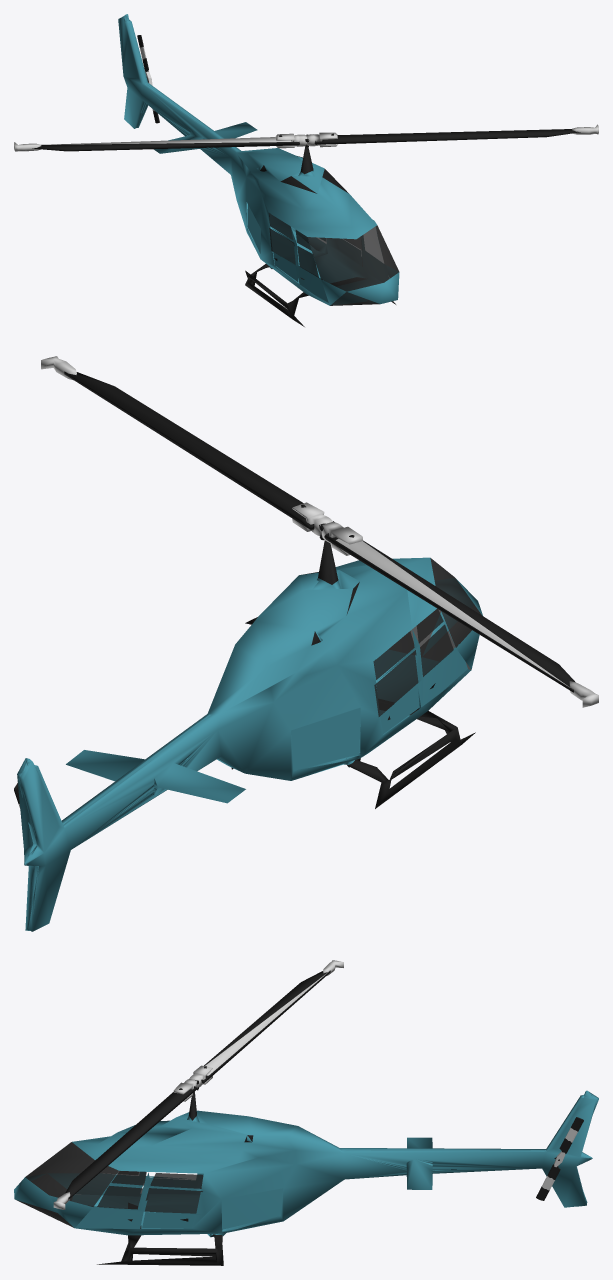
Rendered from heli.fbx.
3 views of the same model, one above another, from view 1: azimuth 30°, elevation 25°; view 2: azimuth 150°, elevation 25°; view 3: azimuth 270°, elevation 25° (orthographic). The views are drawn at different scales.
Visible parts, largest first — view 1: body_helicopter_Cube, baling_baling_1_Cube.001; view 2: body_helicopter_Cube, baling_baling_1_Cube.001; view 3: body_helicopter_Cube, baling_baling_1_Cube.001, baling-baling_2_Plane.001.
Boxes of the visible parts, x1,y1,x2,y2 form: body_helicopter_Cube: [118, 14, 399, 326]; baling_baling_1_Cube.001: [14, 124, 598, 151]; body_helicopter_Cube: [17, 540, 482, 931]; baling_baling_1_Cube.001: [41, 356, 598, 707]; body_helicopter_Cube: [14, 1090, 598, 1265]; baling_baling_1_Cube.001: [53, 960, 343, 1209]; baling-baling_2_Plane.001: [536, 1117, 583, 1200].
Bounding box in the file's own units: 1784 × 561 × 1803.
